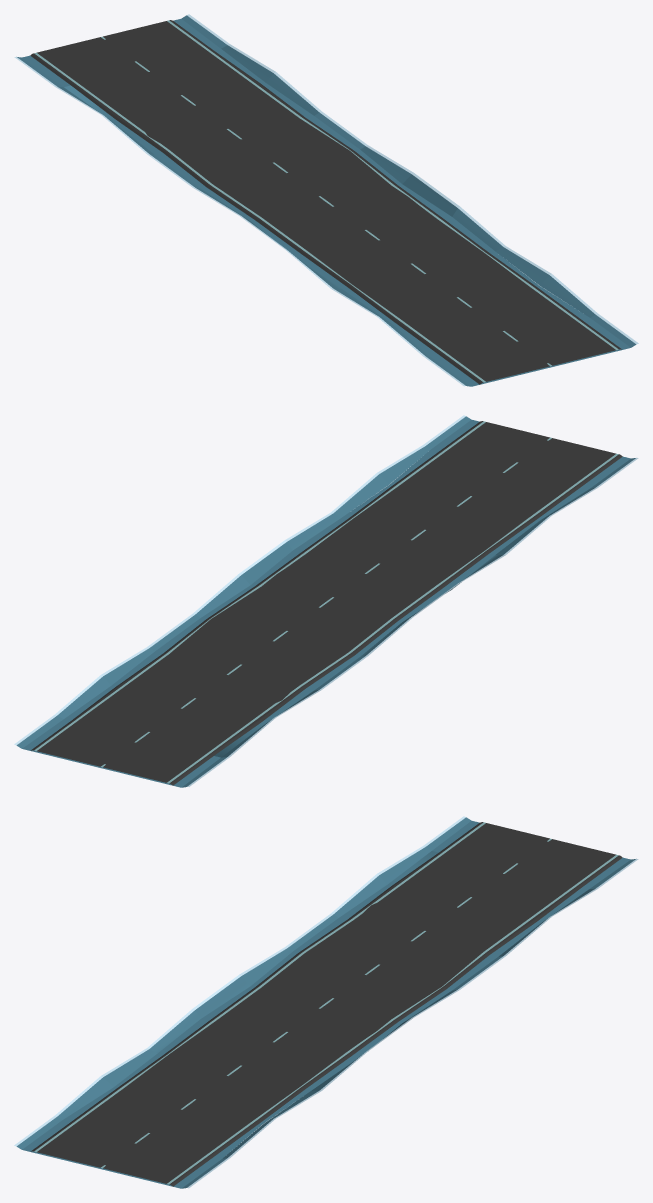
The model's file is model_bottle_03.fbx.
The picture shows the model from 3 angles, top to bottom: view 1: azimuth 30°, elevation 25°; view 2: azimuth 150°, elevation 25°; view 3: azimuth 330°, elevation 25°; orthographic projection.
Visible parts, largest first — view 1: model_road_snow_straight_01; view 2: model_road_snow_straight_01; view 3: model_road_snow_straight_01.
Part boxes in pixels (<box>): model_road_snow_straight_01: <box>14,14,638,386</box>; model_road_snow_straight_01: <box>14,415,638,787</box>; model_road_snow_straight_01: <box>14,816,638,1188</box>.
Bounding box in the file's own units: 1351 × 62.31 × 6000.
